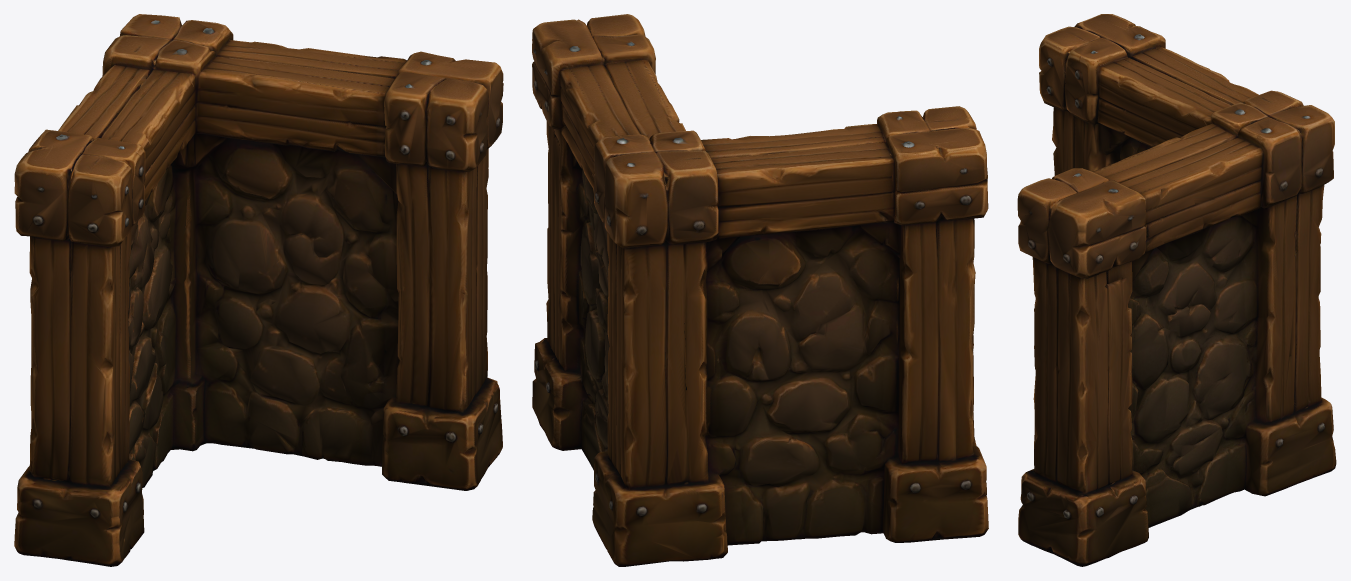
The model's file is esquina_de_piedra_y_madera.glb.
3 views of the same model, side by side, from view 1: azimuth 30°, elevation 25°; view 2: azimuth 150°, elevation 25°; view 3: azimuth 270°, elevation 25° (orthographic). The views are drawn at different scales.
Parts seen in each view (by area): view 1: esquina_de_piedra_y_madera; view 2: esquina_de_piedra_y_madera; view 3: esquina_de_piedra_y_madera.
Boxes of the visible parts, left/top/right/bottom form: esquina_de_piedra_y_madera: left=14, top=14, right=503, bottom=566; esquina_de_piedra_y_madera: left=532, top=14, right=988, bottom=566; esquina_de_piedra_y_madera: left=1017, top=14, right=1336, bottom=566.
Size of what is drawn, in the model's own units: 3.12 by 2.5 by 2.03.
Materials: 1 (1 with a texture image).
